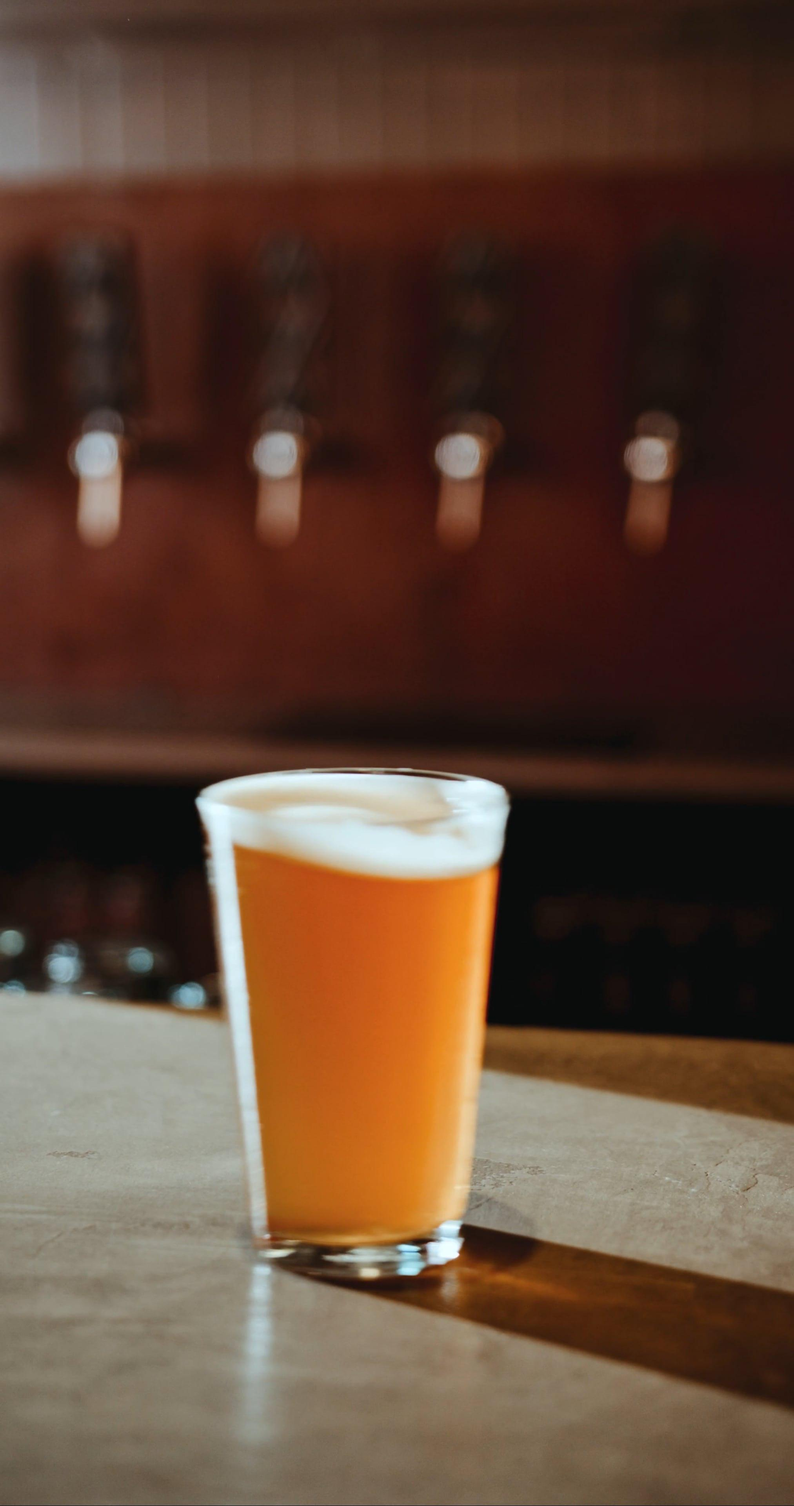glass-normal: (193, 764, 513, 1279)
